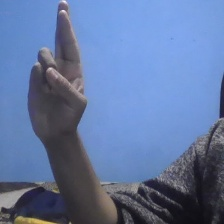R: (24, 1, 91, 137)
